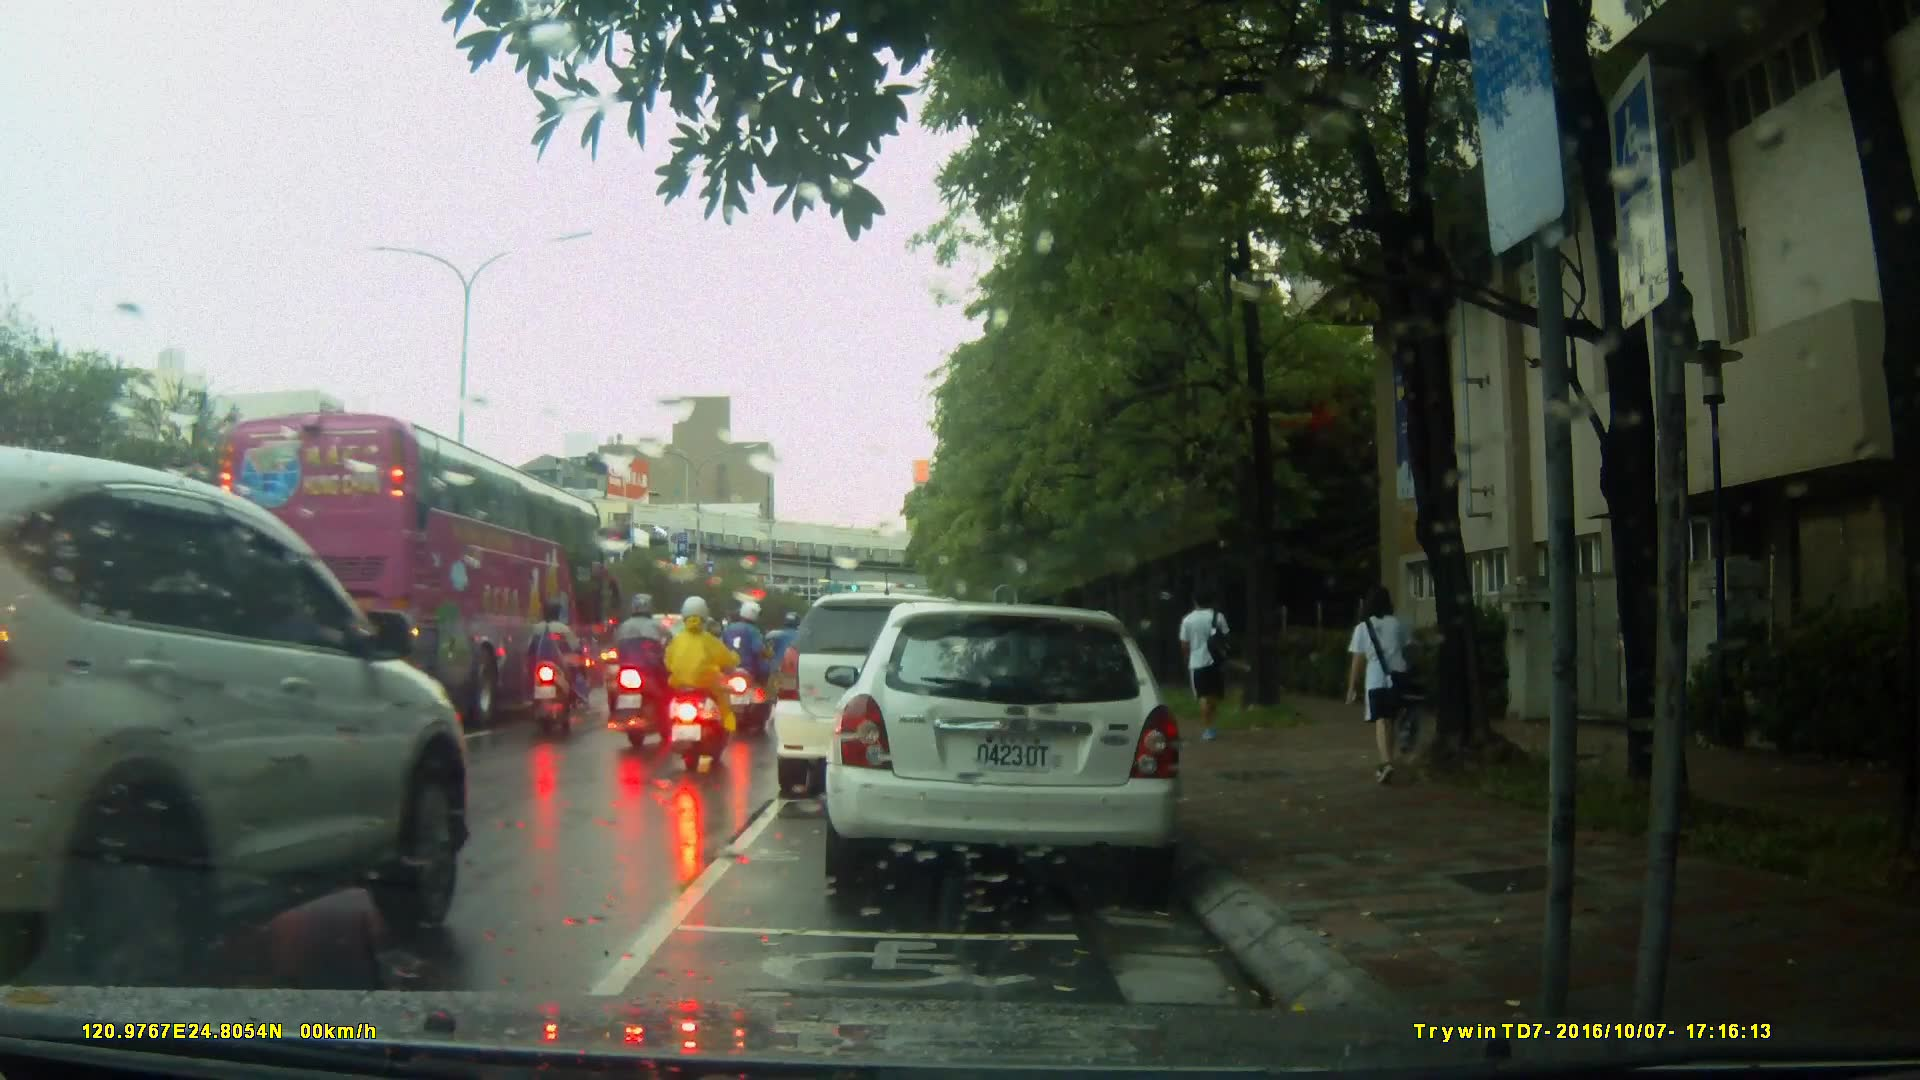pedestrian: (1347, 578, 1432, 793), (1168, 584, 1226, 742)
rider: (669, 598, 736, 770), (616, 590, 673, 749), (718, 604, 779, 737), (532, 598, 584, 732), (771, 611, 818, 722)
vehicle: (1, 440, 474, 989), (209, 408, 613, 722), (835, 594, 1194, 898), (776, 590, 1026, 784), (604, 613, 732, 715)
